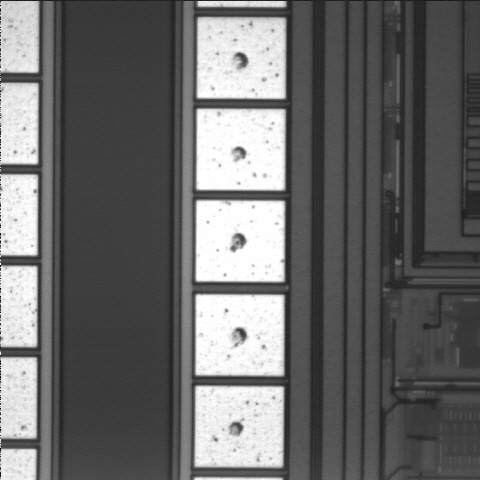pad: (197, 17, 286, 99), (196, 109, 285, 191), (196, 200, 285, 282), (196, 294, 284, 376), (195, 386, 284, 467)
